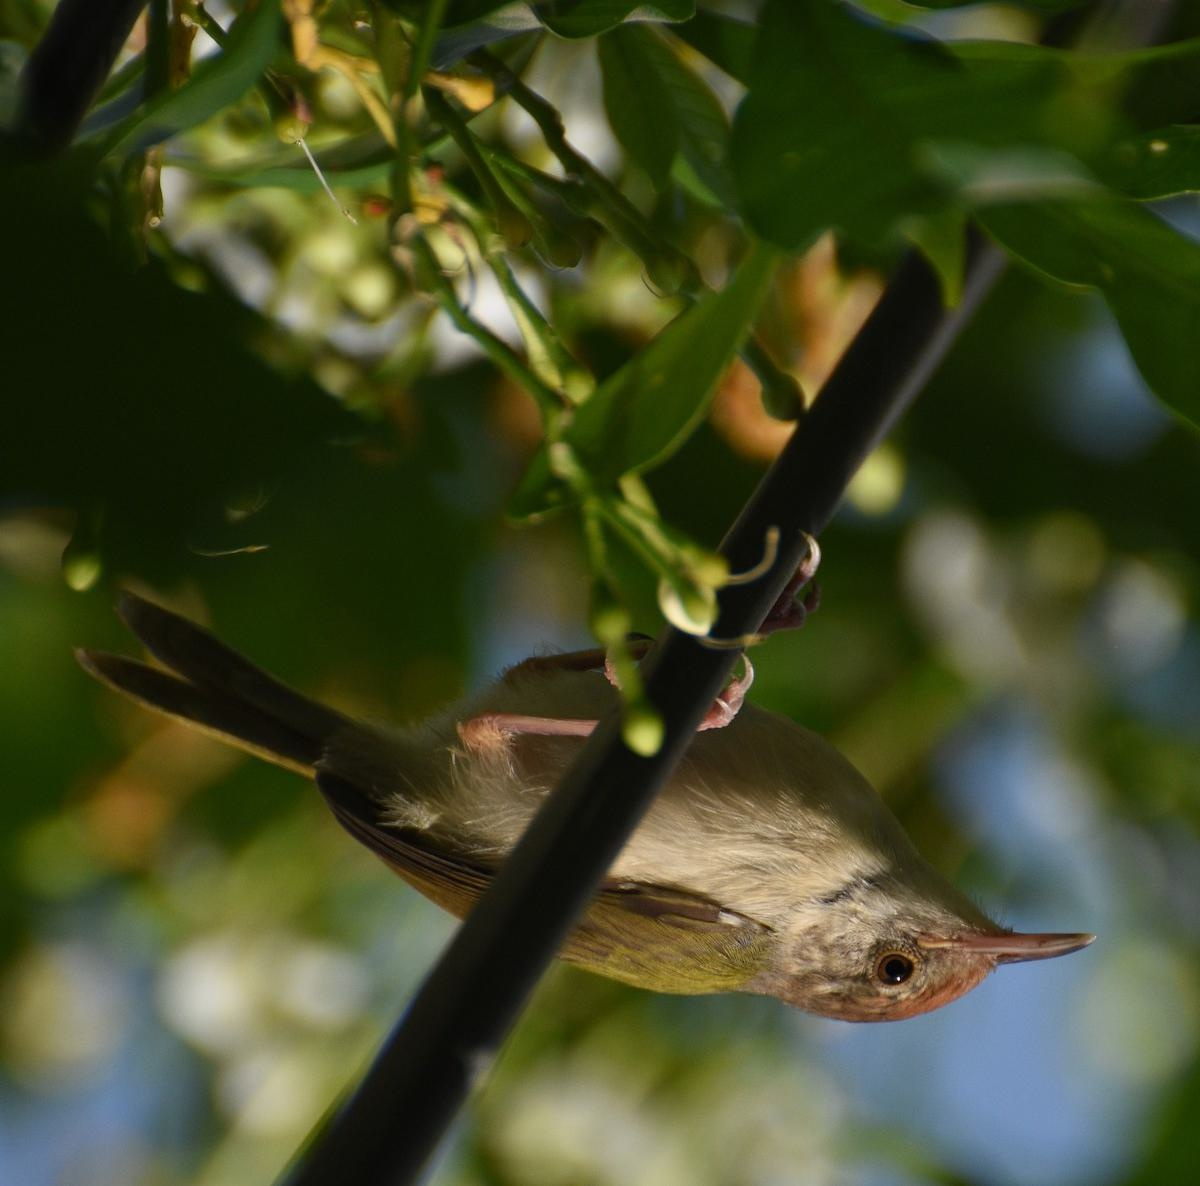tailorbird: (92, 541, 1125, 1045)
